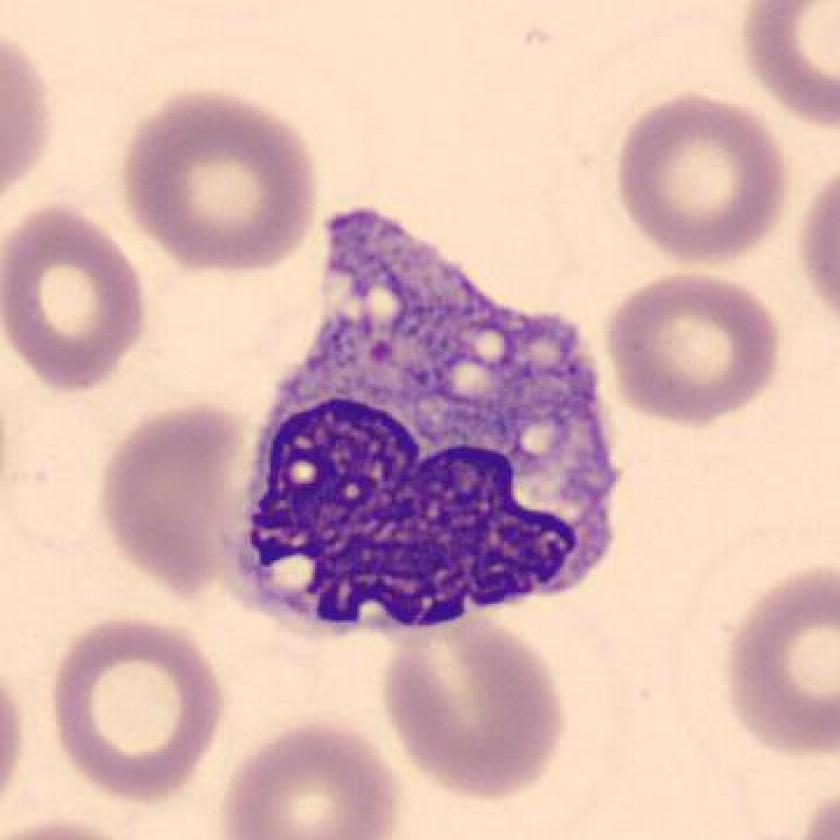monocyte: (218, 193, 643, 663)
